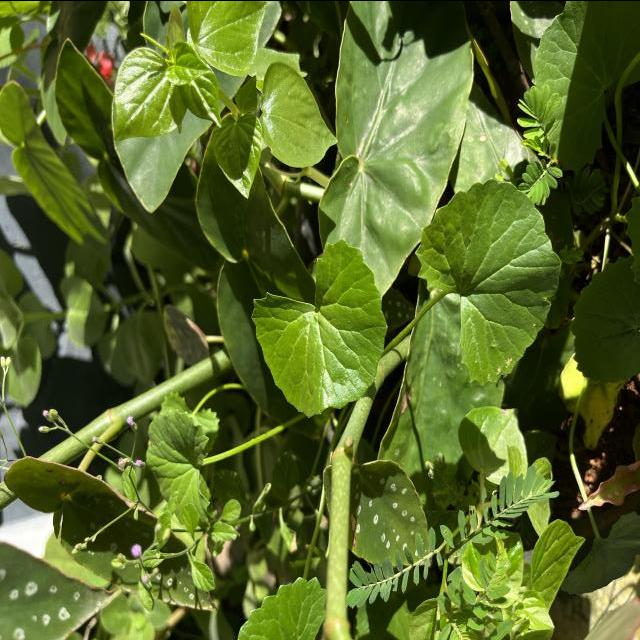Centella asiatica: (412, 174, 564, 388), (248, 233, 390, 422)
